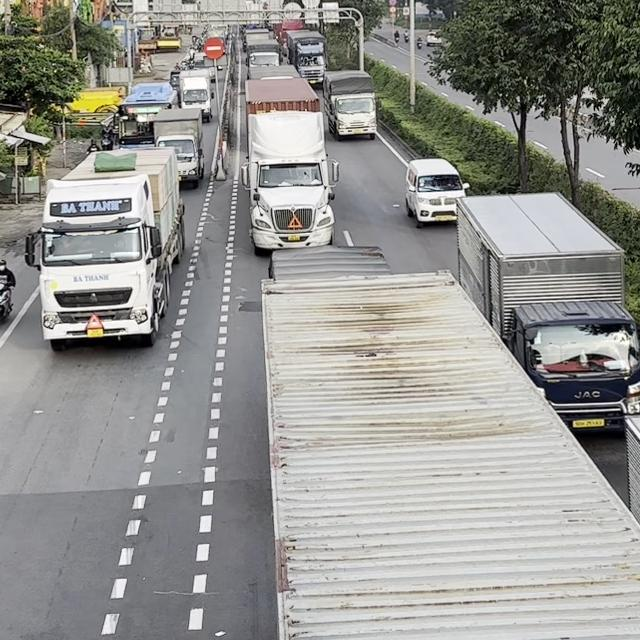bus: (116, 81, 176, 147)
car: (403, 157, 470, 227)
motorcycle: (0, 258, 16, 322), (98, 123, 116, 150)
truck: (255, 268, 640, 640), (454, 190, 640, 435), (23, 146, 186, 351), (240, 77, 333, 254), (268, 244, 392, 282), (151, 107, 204, 188), (322, 68, 377, 141), (286, 29, 328, 86), (176, 70, 214, 122)
